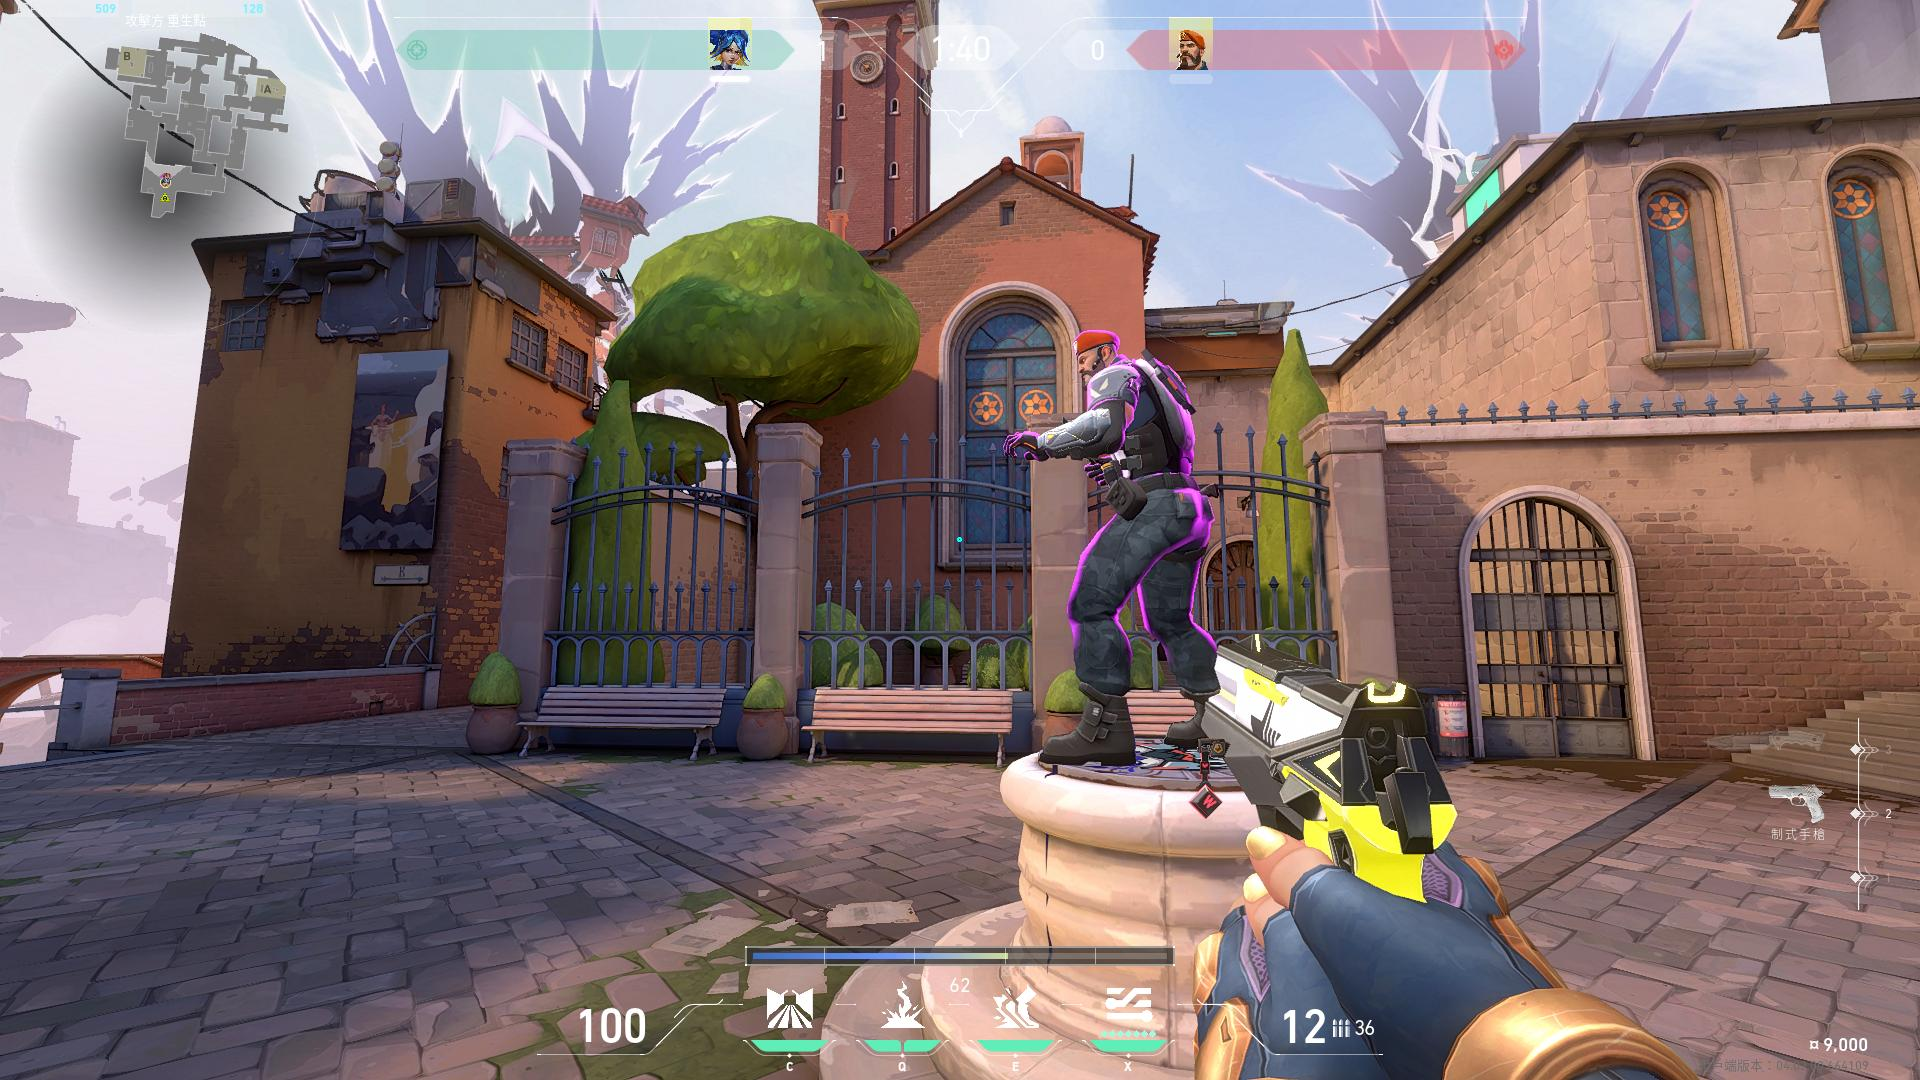enemyBody: (1109, 386, 1189, 502)
enemyHead: (1081, 334, 1117, 369)
